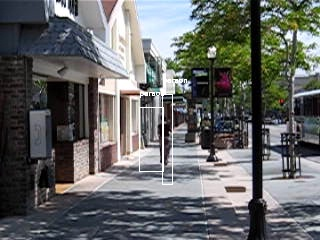person: (157, 116, 174, 167), (156, 116, 173, 167), (158, 116, 175, 167), (157, 115, 174, 166), (157, 117, 174, 168)
target_negative: (123, 103, 304, 202), (21, 201, 299, 235), (143, 191, 306, 239), (189, 101, 270, 183), (8, 203, 273, 210), (2, 68, 41, 95)
